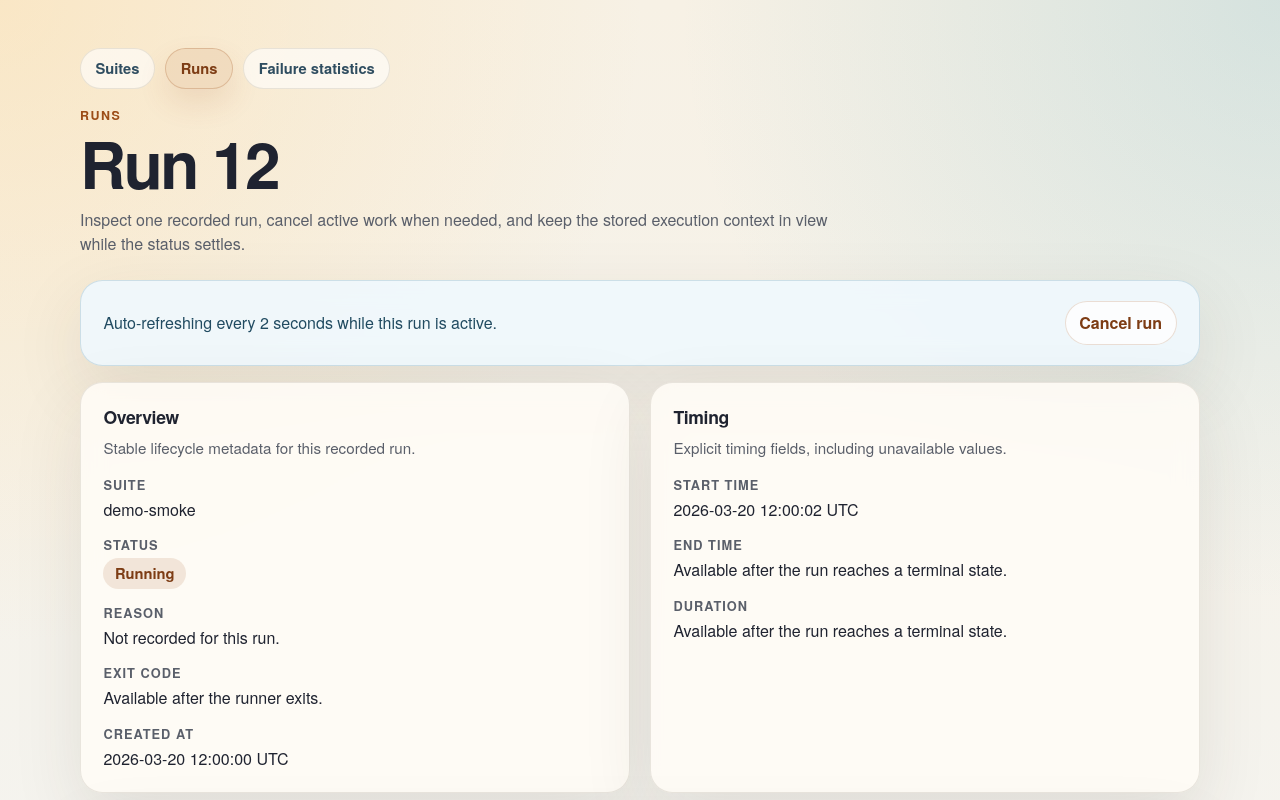
Test: shows local cancel errors on /runs/:id without hiding the ready state
Click the button "Cancel run" at x=1121, y=323, box [1065, 301, 1177, 345]
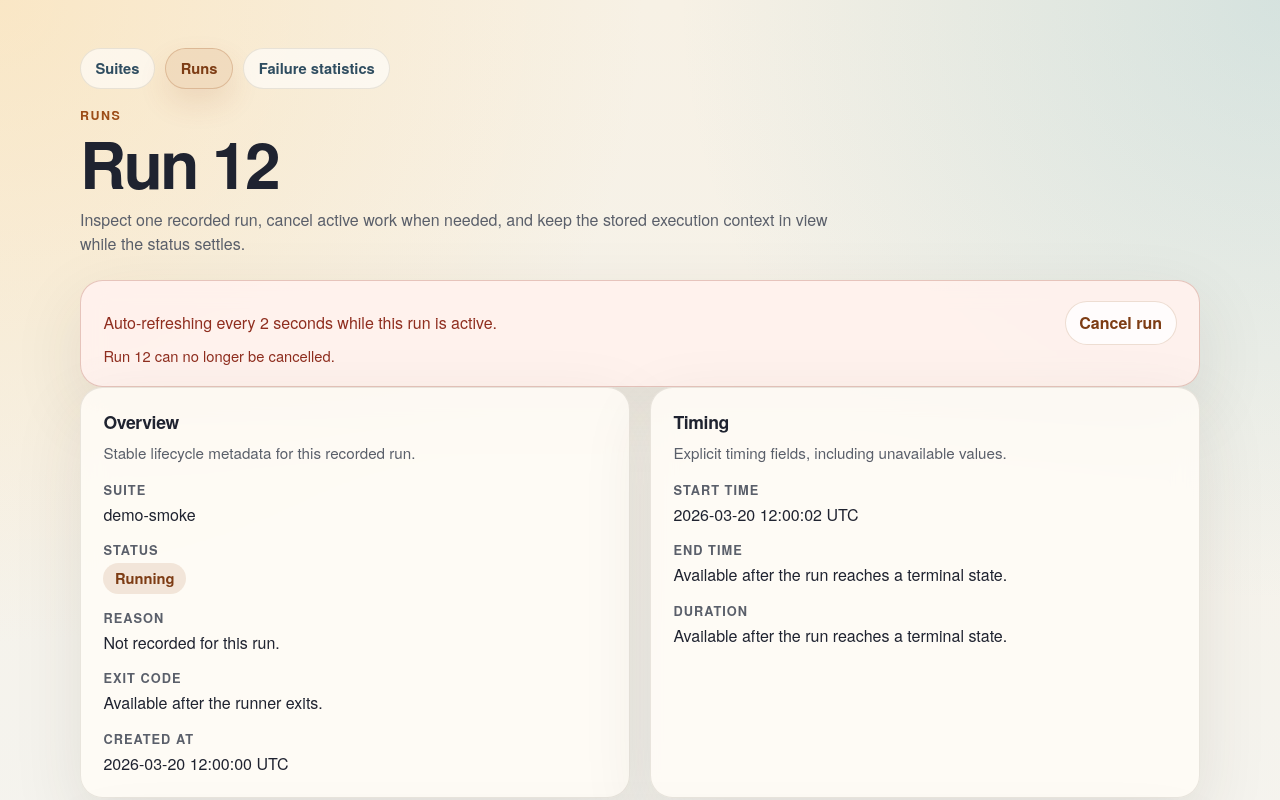
Expected: the heading "Overview" is shown, [103, 409, 179, 434]
Result: the text "Run 12 can no longer be cancelled." is shown at [103, 345, 335, 366]
